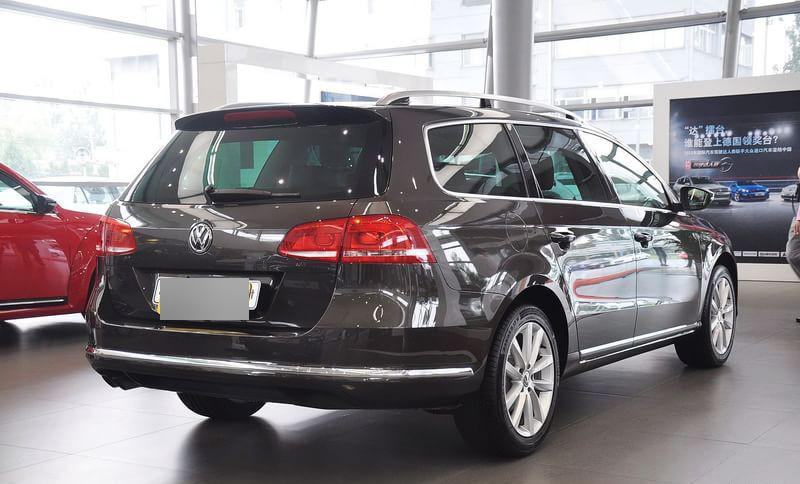Wagon: (83, 89, 739, 457)
